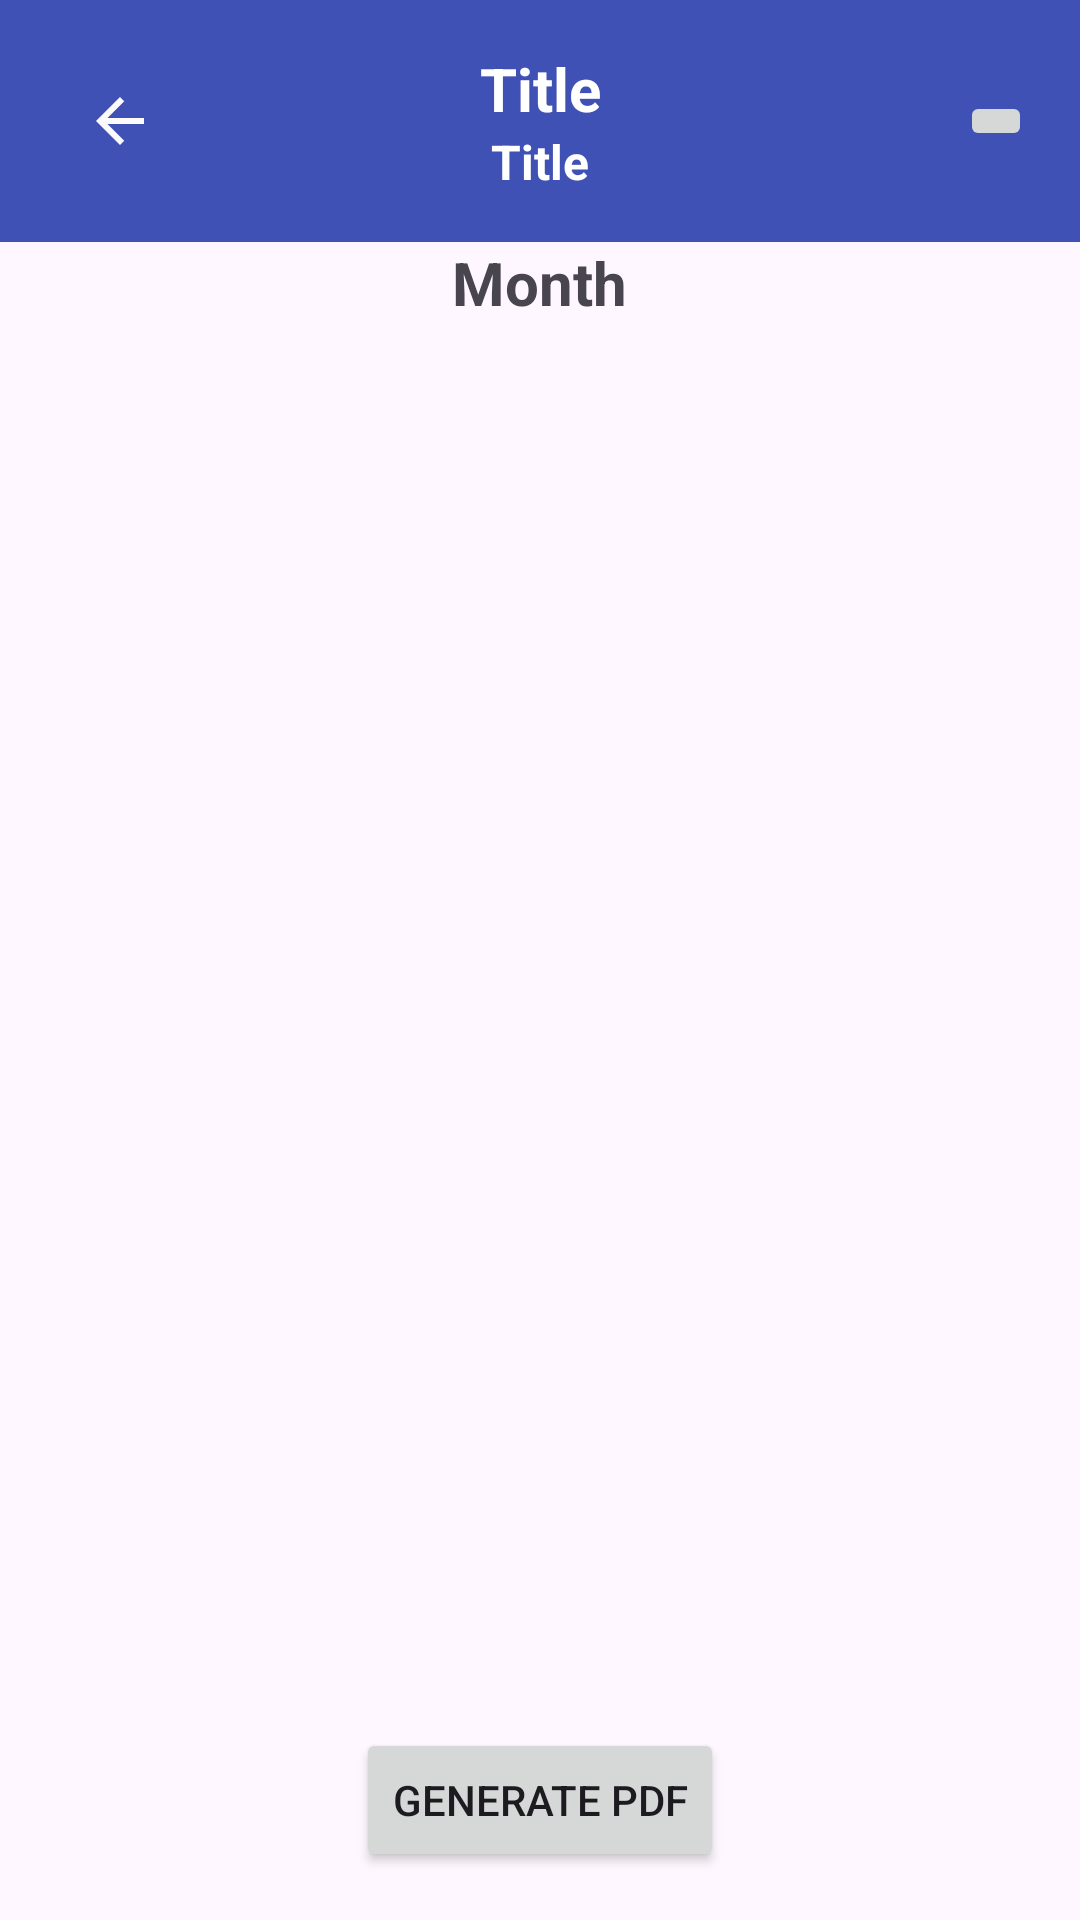

Icons on this 1080px×1920px Android screen, each with its box as (x1, y1, x2, y2):
arrow back: (96, 97, 144, 145)
